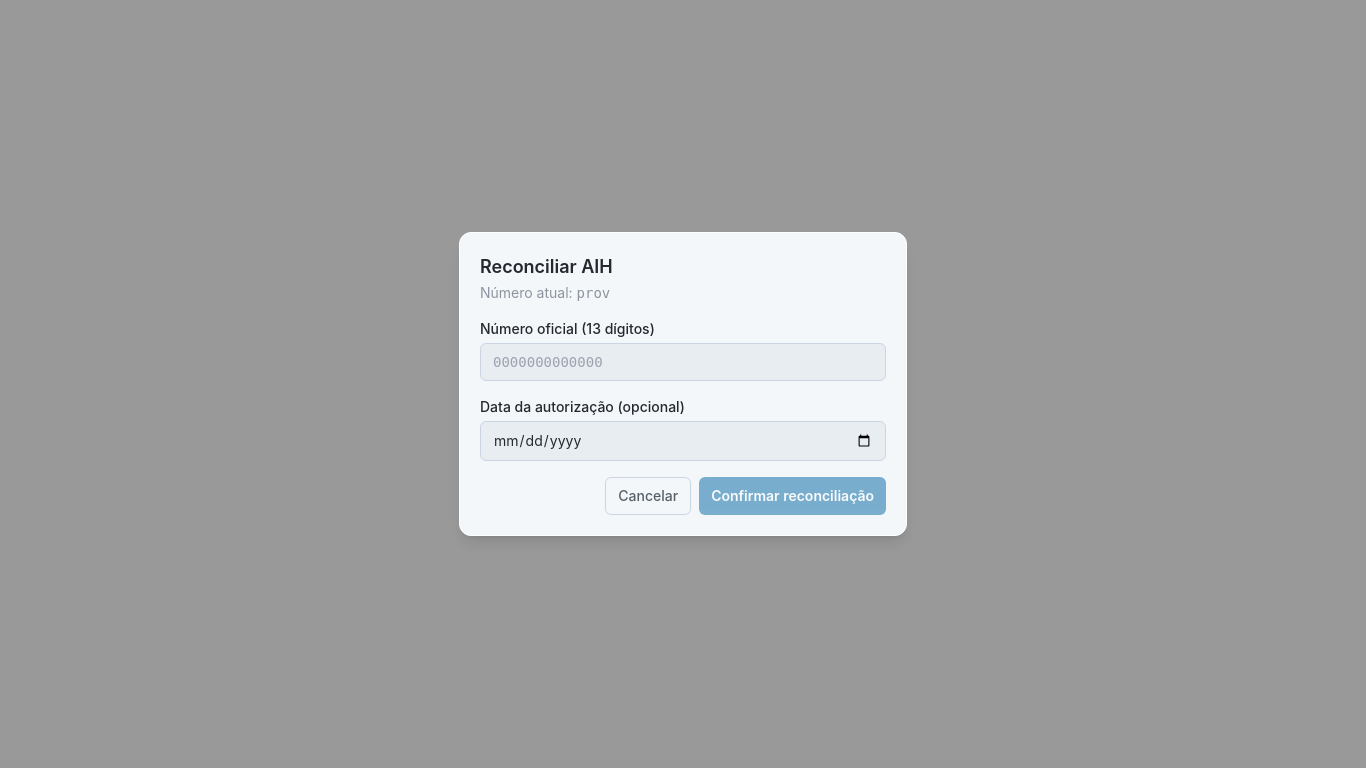
Test: ReconciliarAihModal › disables confirm until a 13-digit number is entered
Expected: the button "Confirmar reconciliação" is disabled, [699,477,886,515]
In the field labelled "Número oficial": (683, 362) [480,343,886,381], type "9999999999999"
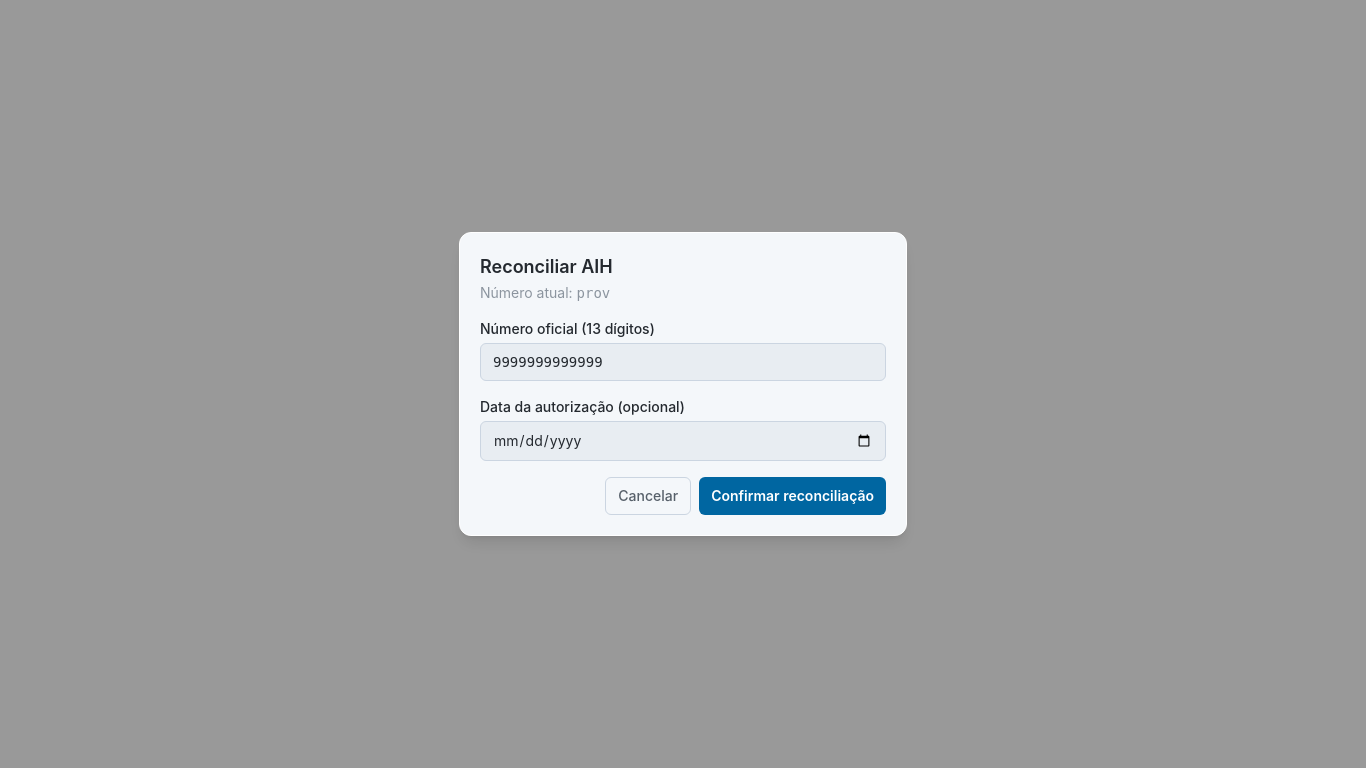
Expected: the button "Confirmar reconciliação" is enabled, [699,477,886,515]
